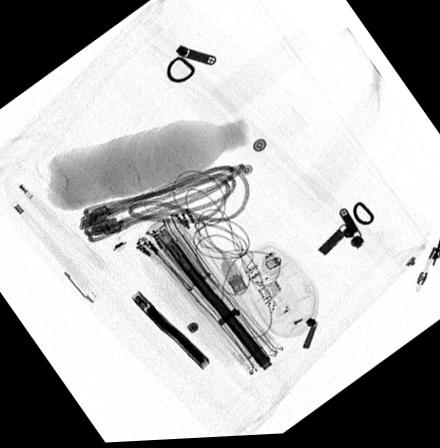Powerbank: (129, 291, 211, 372)
